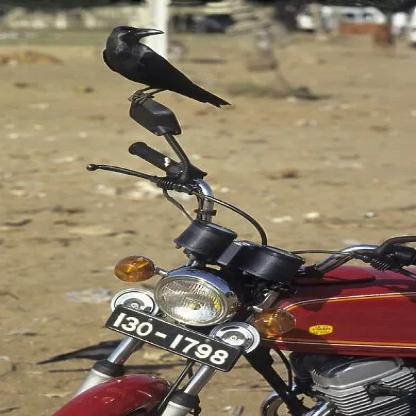bike front: (23, 101, 416, 416)
number plate: (104, 310, 234, 366)
